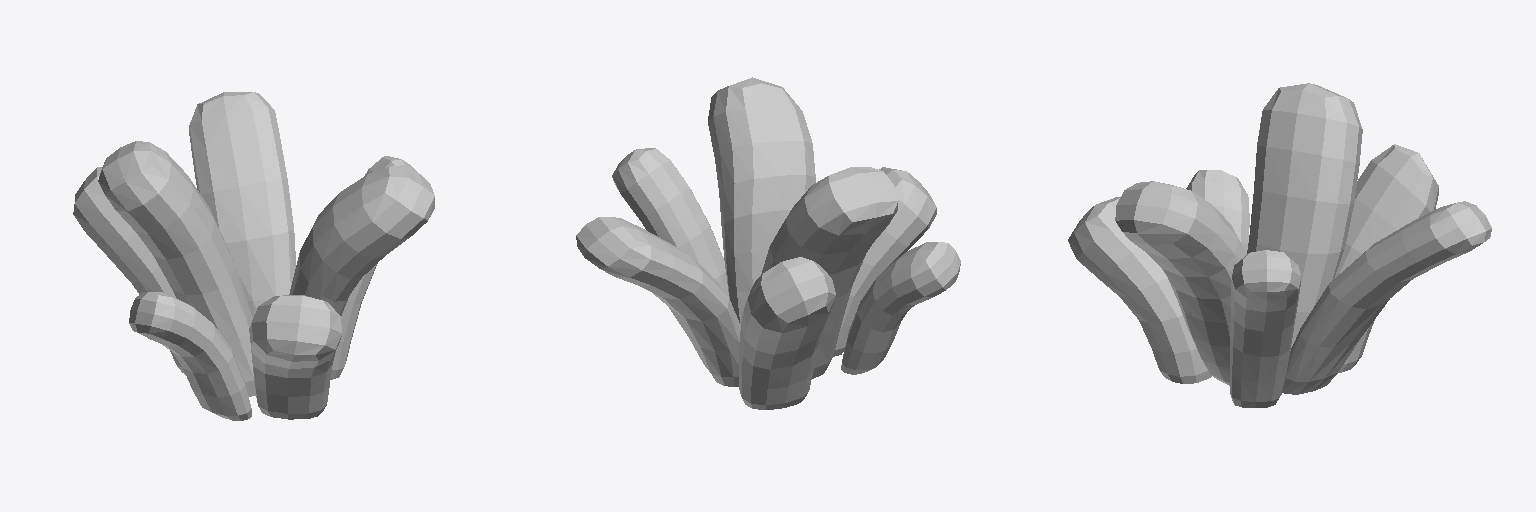
File: Anemone_A_01_LOD0.obj
3 views of the same model, side by side, from view 1: azimuth 30°, elevation 25°; view 2: azimuth 150°, elevation 25°; view 3: azimuth 270°, elevation 25° (orthographic).
Parts seen in each view (by area): view 1: Anemone_A_01_LOD0_Cylinder.308; view 2: Anemone_A_01_LOD0_Cylinder.308; view 3: Anemone_A_01_LOD0_Cylinder.308.
Part boxes in pixels (left/top/right/bottom): Anemone_A_01_LOD0_Cylinder.308: left=73, top=92, right=434, bottom=420; Anemone_A_01_LOD0_Cylinder.308: left=576, top=77, right=960, bottom=409; Anemone_A_01_LOD0_Cylinder.308: left=1068, top=83, right=1491, bottom=407.
Size of the model in its own units: 3.79 by 2.8 by 4.49.